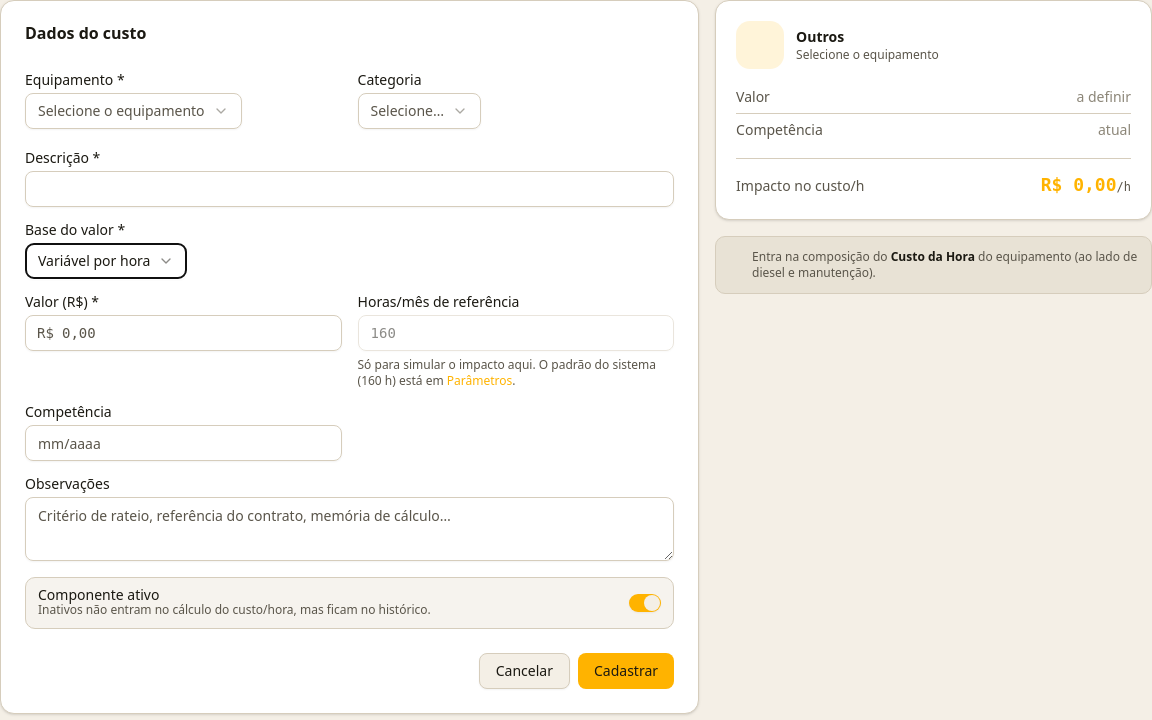
Test case: ComponenteCustoForm › na criação calcula o impacto no custo/h ao vivo (variável por hora)
Earlier steps of the test are not shown.
Type "Operador" into the field labelled "Descrição *" at (350, 189), box x1=25 y1=171 x2=674 y2=207
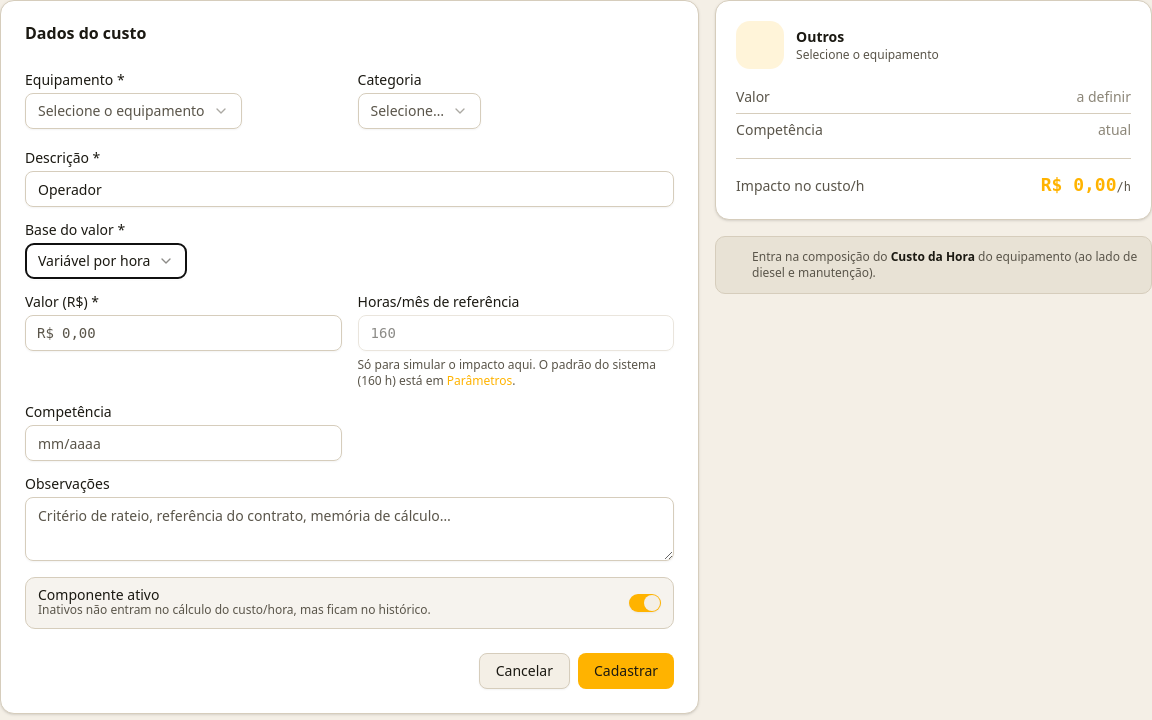
Type "3800" into the field labelled "Valor (R$) *" at (183, 333), box x1=25 y1=315 x2=342 y2=351
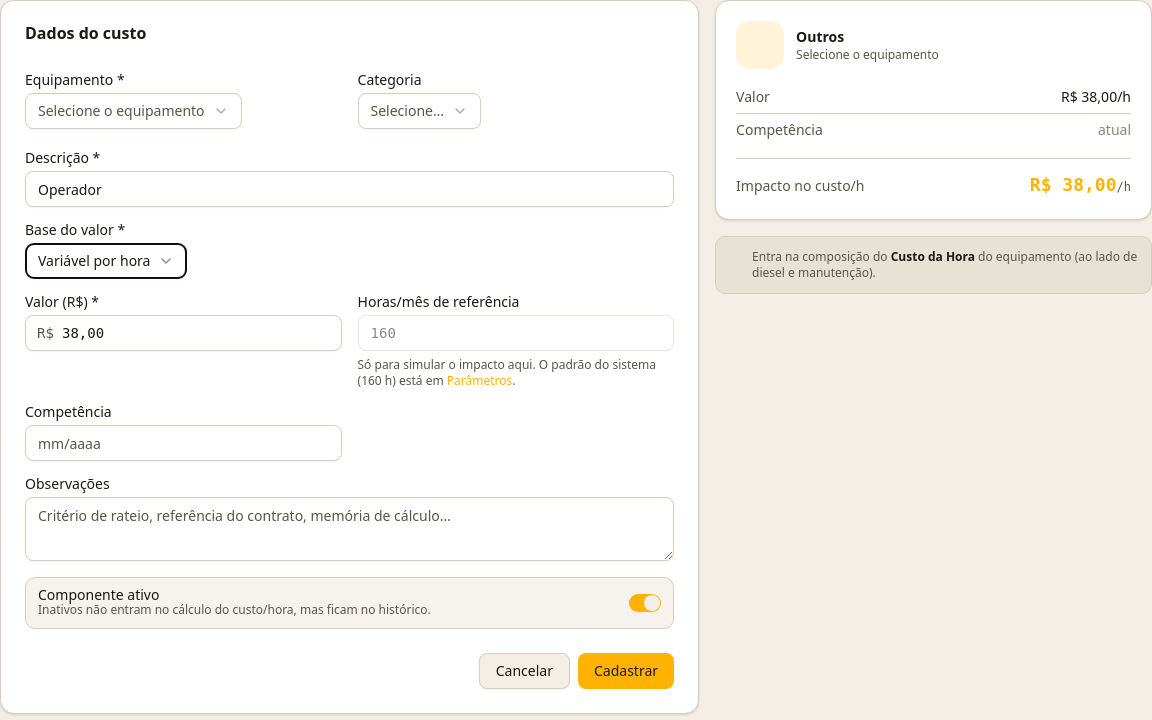
Result: the text "R$ 38,00" is shown at x1=1030 y1=174 x2=1116 y2=195
